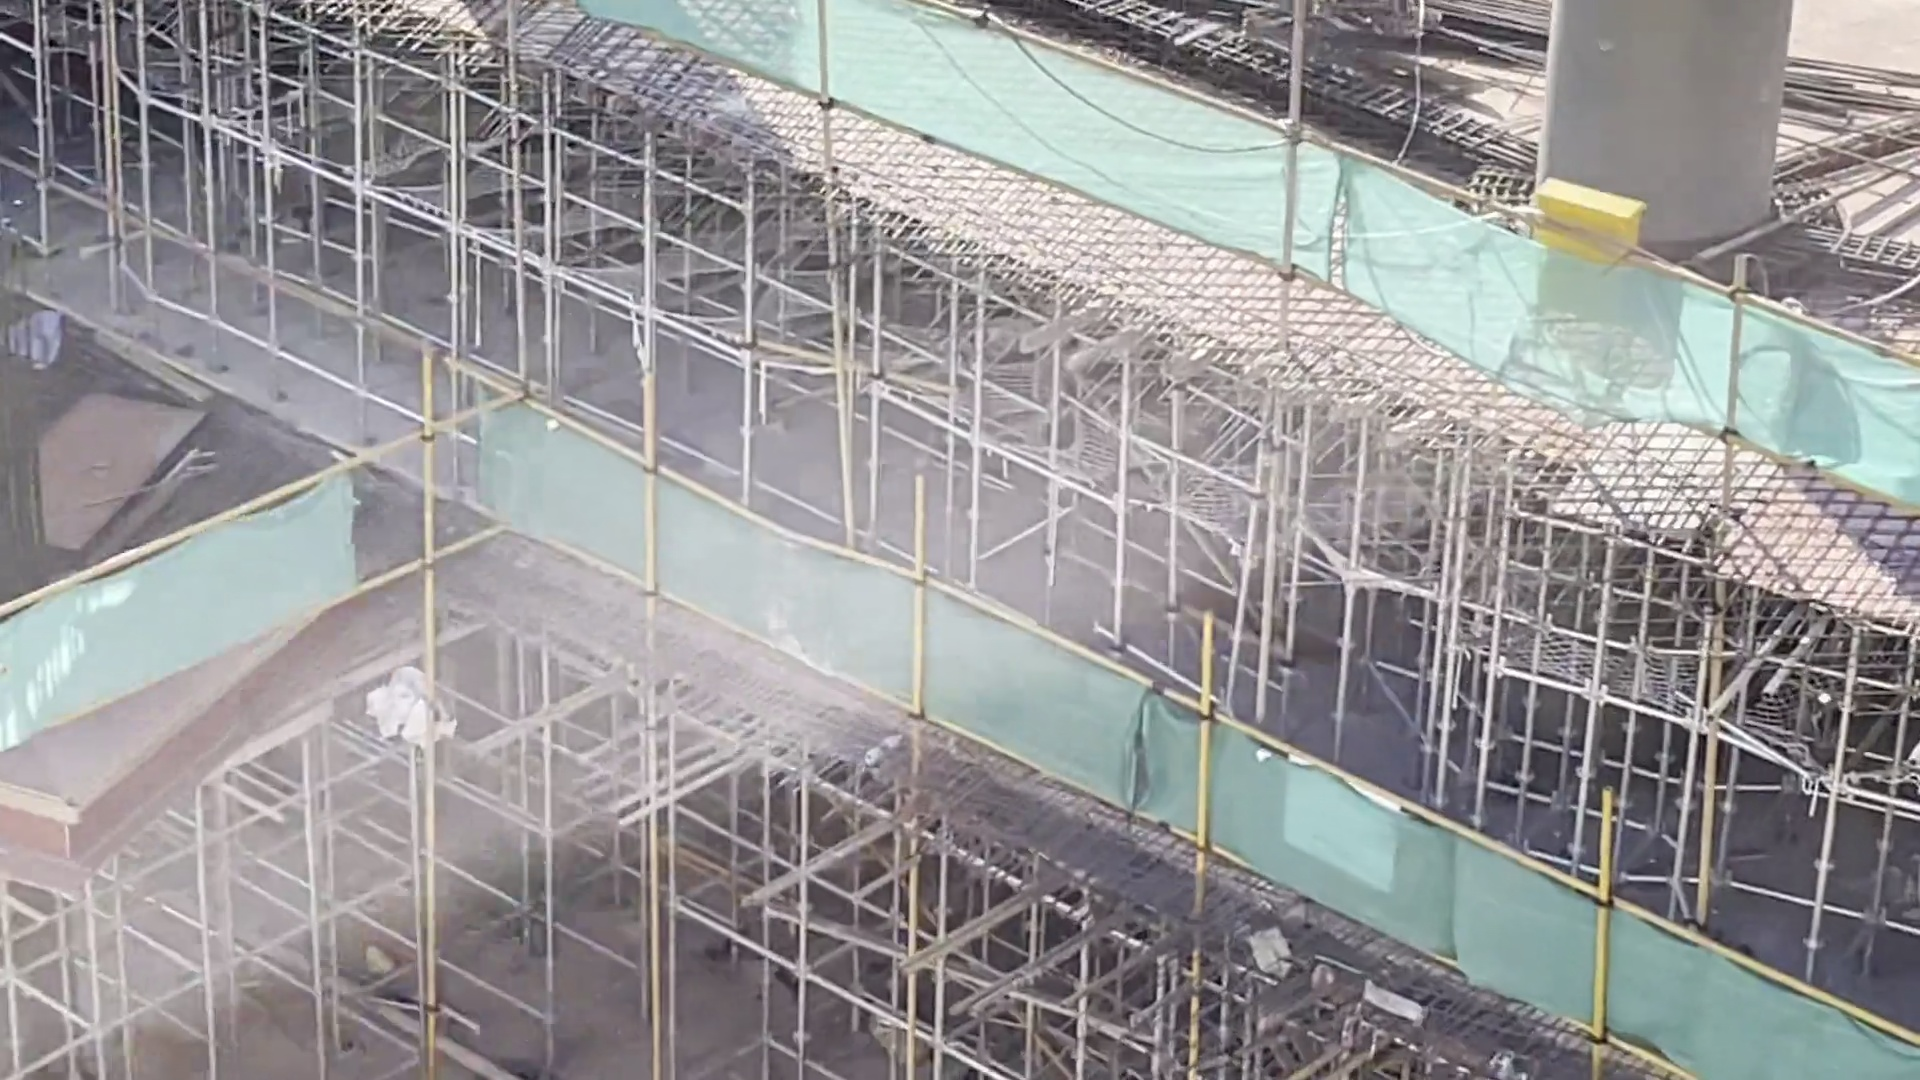ebox: (1530, 167, 1640, 348)
